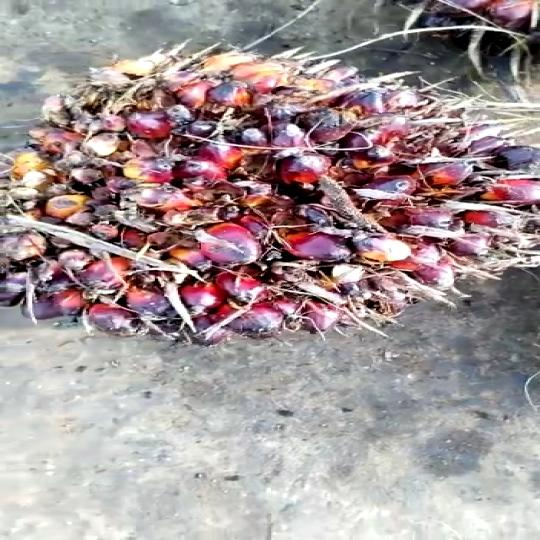masak: (0, 40, 540, 348)
